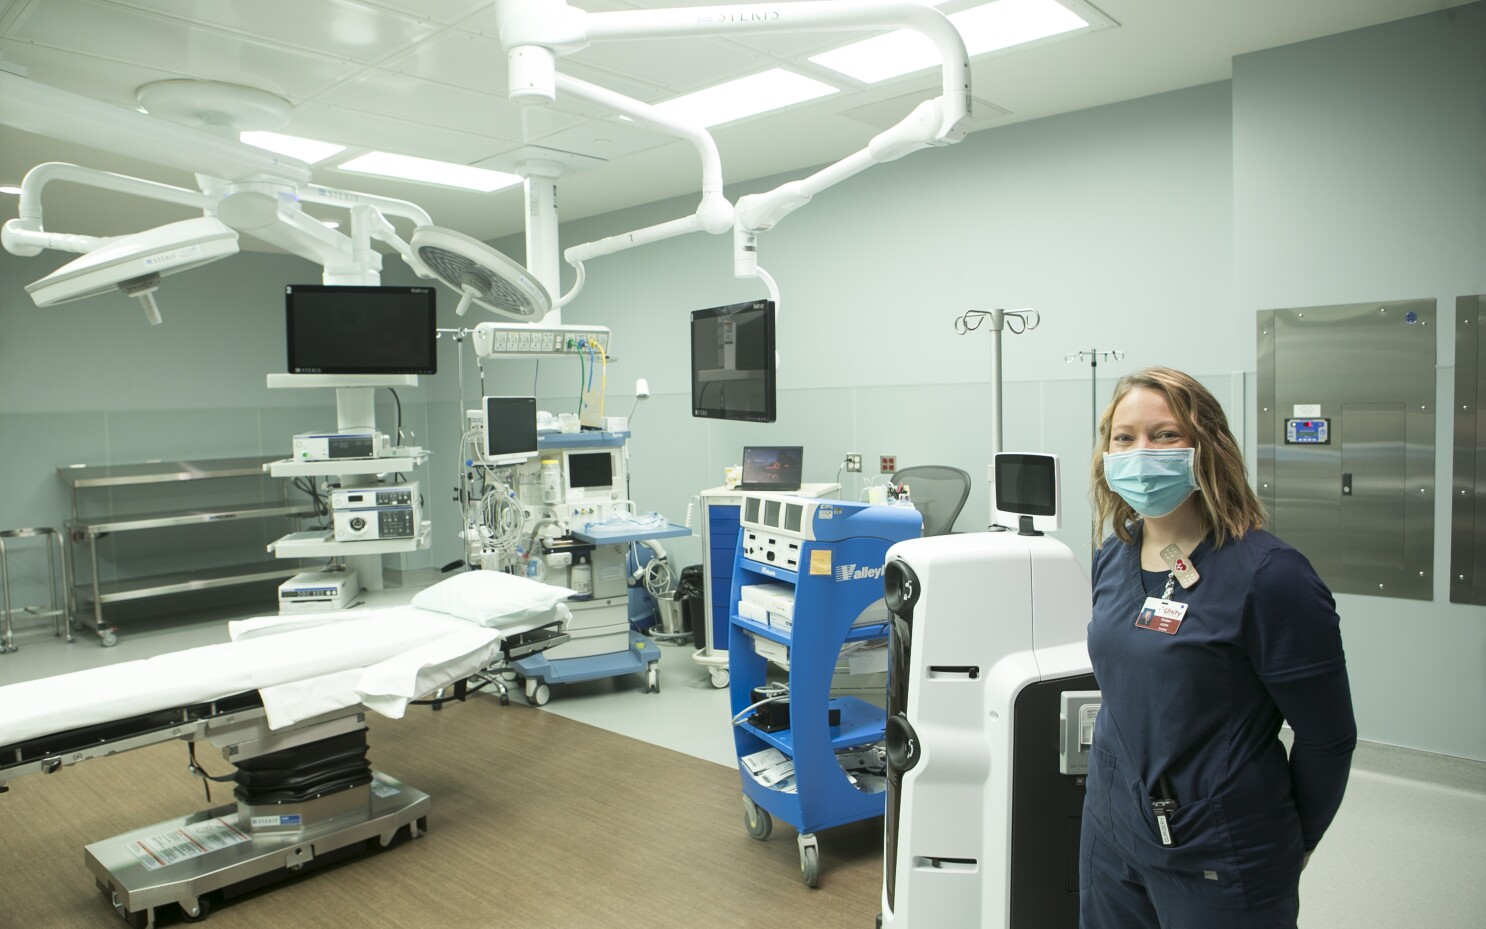bedside_monitor: (281, 282, 441, 378), (685, 297, 784, 424), (983, 452, 1057, 528), (484, 395, 541, 463), (570, 449, 617, 490)
chair: (875, 463, 976, 547)
computer: (729, 446, 805, 492)
electrosurgical_unit: (736, 527, 810, 583)
iv_pole: (951, 304, 1043, 452)
medical_drawer: (706, 480, 844, 689)
operating_bed: (1, 568, 580, 929)
staff: (1078, 368, 1358, 929)
surgical_light: (24, 217, 241, 329), (410, 227, 556, 316)
utility_cart: (57, 461, 374, 625), (1, 527, 74, 654)
waste_bin: (672, 562, 704, 653)
